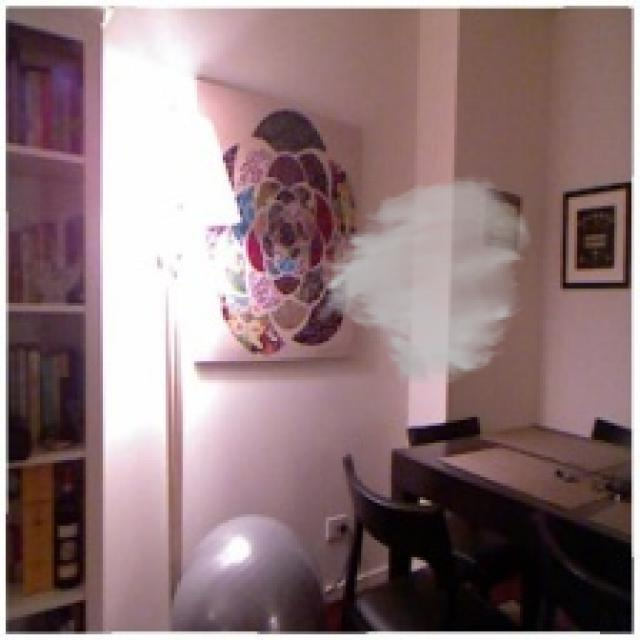Smoke: (312, 174, 534, 389)
